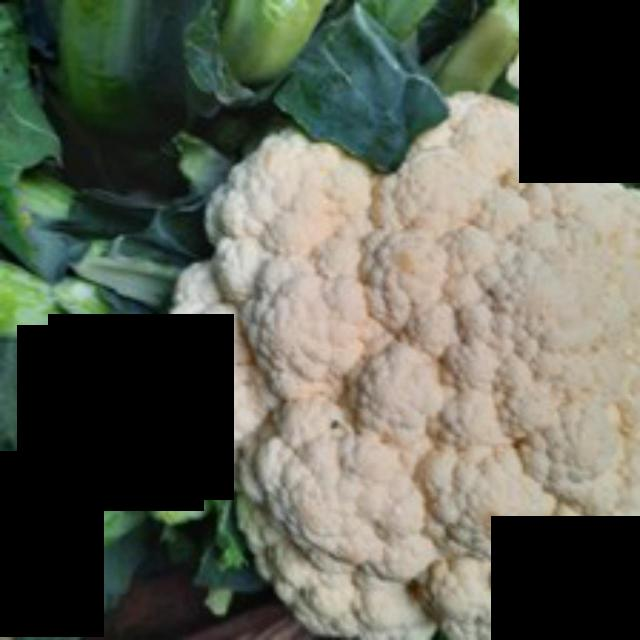cauliflower: (148, 74, 637, 637)
